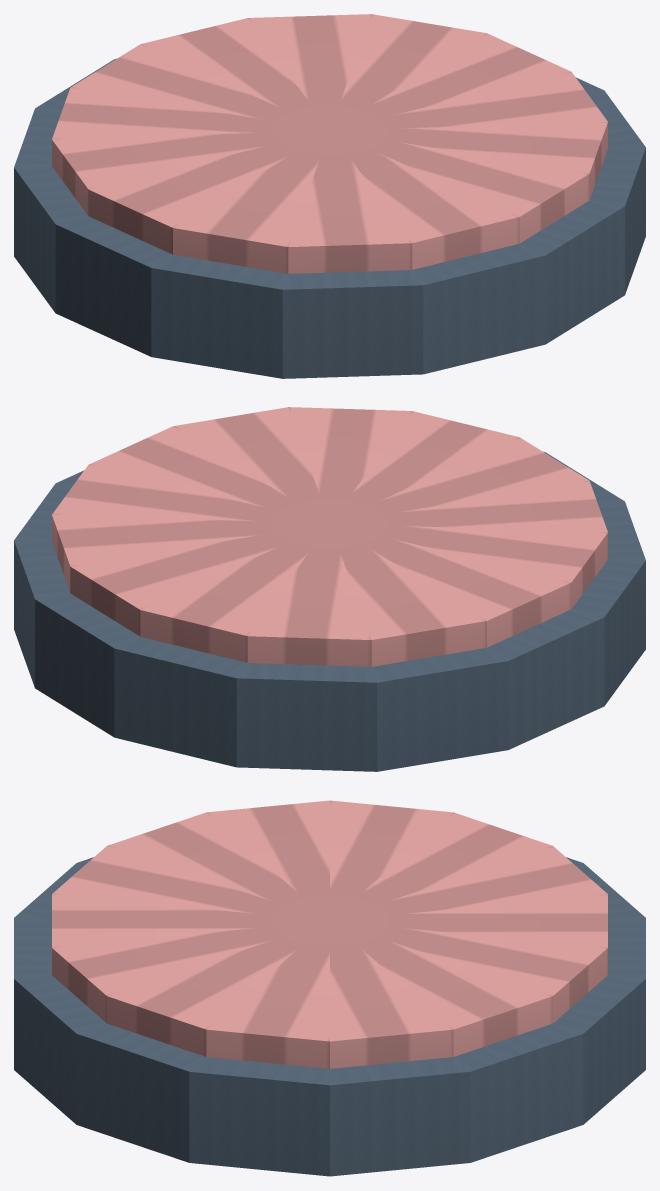
The model's file is teleport_pad.glb.
The picture shows the model from 3 angles, top to bottom: view 1: azimuth 30°, elevation 25°; view 2: azimuth 150°, elevation 25°; view 3: azimuth 270°, elevation 25°; orthographic projection. The views are drawn at different scales.
Visible parts, largest first — view 1: teleport_pad; view 2: teleport_pad; view 3: teleport_pad.
Part boxes in pixels (left/top/right/bottom): teleport_pad: left=14, top=14, right=645, bottom=378; teleport_pad: left=14, top=407, right=645, bottom=771; teleport_pad: left=14, top=800, right=645, bottom=1176.
Bounding box in the file's own units: 2.9 × 0.585 × 2.83.
Materials: 1 (1 with a texture image).
